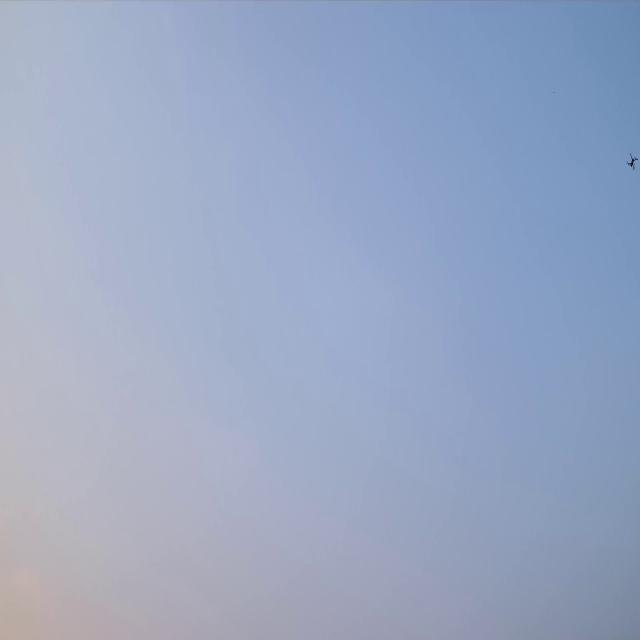UAV: (628, 158, 637, 168)
